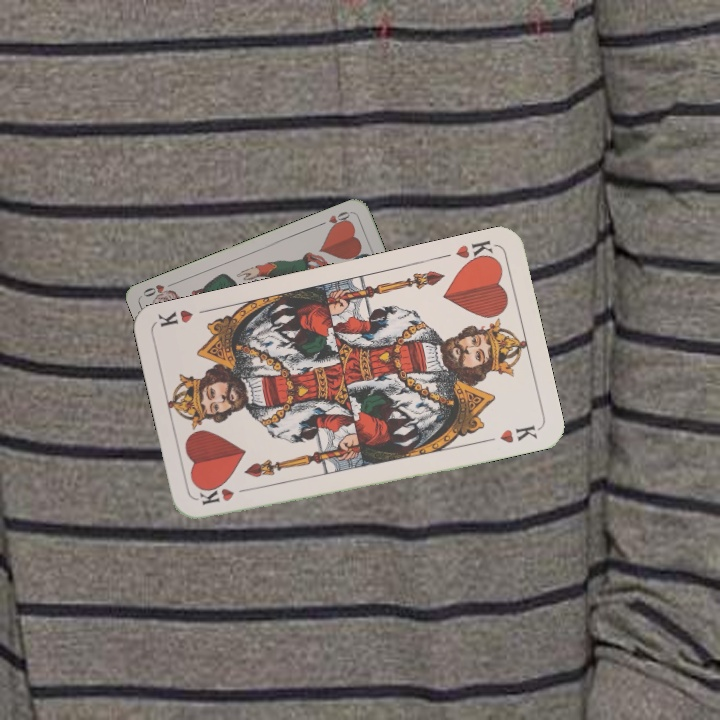HK: (196, 482, 255, 508), (452, 236, 498, 269)
HO: (315, 207, 354, 231)
